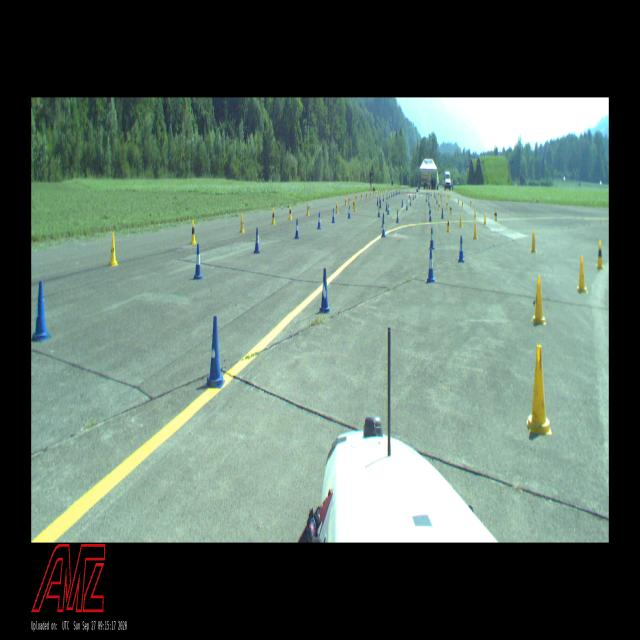blue_cone: (206, 316, 224, 387), (32, 282, 49, 339), (320, 268, 329, 316), (426, 250, 435, 282), (194, 244, 202, 279), (458, 236, 464, 261), (254, 228, 260, 253), (382, 214, 386, 237), (430, 228, 434, 249), (295, 220, 299, 238), (318, 213, 322, 229), (332, 208, 335, 223), (429, 211, 432, 221), (396, 210, 398, 223), (348, 206, 350, 218), (378, 206, 380, 217), (388, 204, 390, 214), (442, 208, 444, 218), (386, 202, 388, 212), (406, 201, 408, 210), (428, 197, 430, 205), (379, 199, 381, 207), (429, 206, 431, 213), (377, 197, 378, 206), (410, 198, 411, 206), (402, 200, 403, 207)
yellow_cone: (525, 344, 552, 434), (532, 276, 546, 324), (576, 256, 587, 293), (110, 234, 118, 265), (596, 240, 604, 269), (190, 221, 196, 244), (531, 231, 536, 252), (473, 221, 478, 239), (446, 217, 451, 232), (240, 215, 244, 232), (306, 203, 310, 215), (289, 205, 292, 220), (272, 209, 275, 224), (483, 212, 486, 225), (336, 202, 339, 214), (494, 210, 497, 220), (460, 215, 462, 228), (353, 199, 355, 210), (354, 201, 356, 212), (474, 207, 476, 218), (345, 197, 347, 206), (348, 195, 350, 204), (356, 193, 358, 202), (438, 202, 440, 210), (450, 205, 451, 214), (361, 192, 362, 200), (447, 200, 448, 208)
